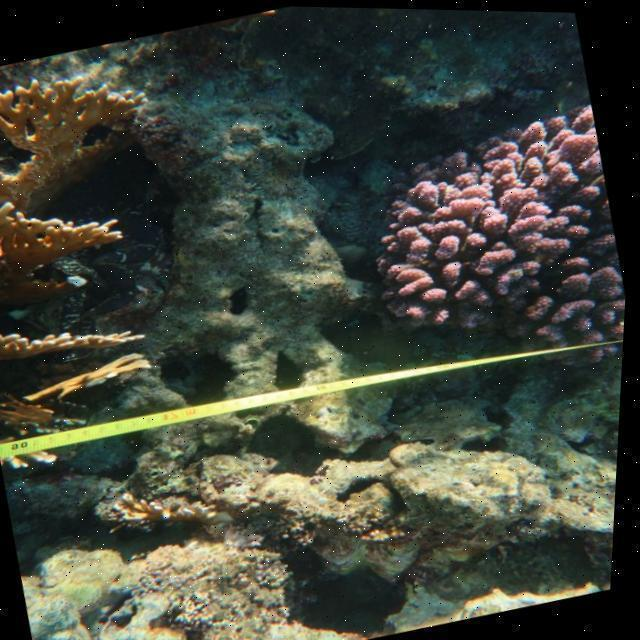Healthy Coral: (336, 94, 637, 394), (0, 37, 172, 287), (0, 317, 153, 433)
